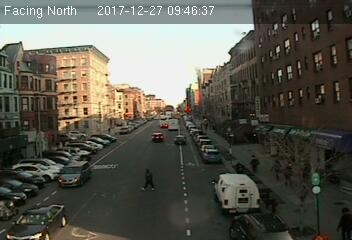car: (226, 210, 302, 240), (56, 161, 93, 188), (203, 148, 220, 162), (173, 135, 186, 144), (150, 133, 163, 141)
pedestrian: (137, 168, 158, 195), (271, 157, 281, 184), (248, 154, 261, 174)
truck: (211, 174, 262, 216)
